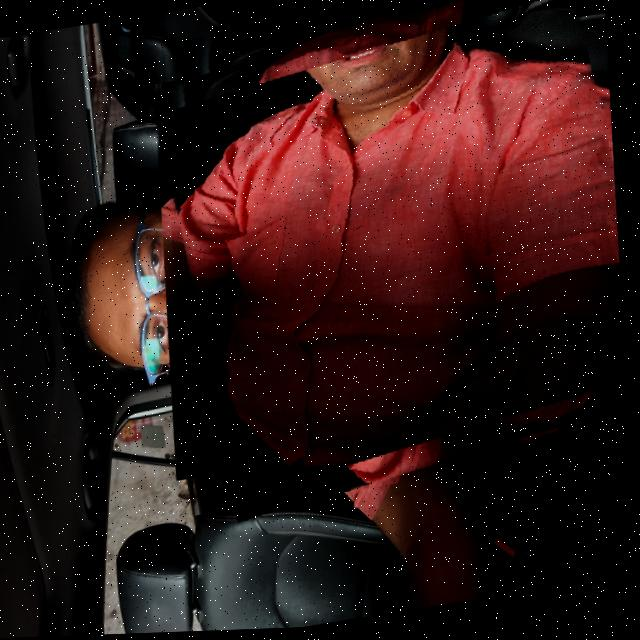no-seatbelt: (136, 0, 640, 518)
